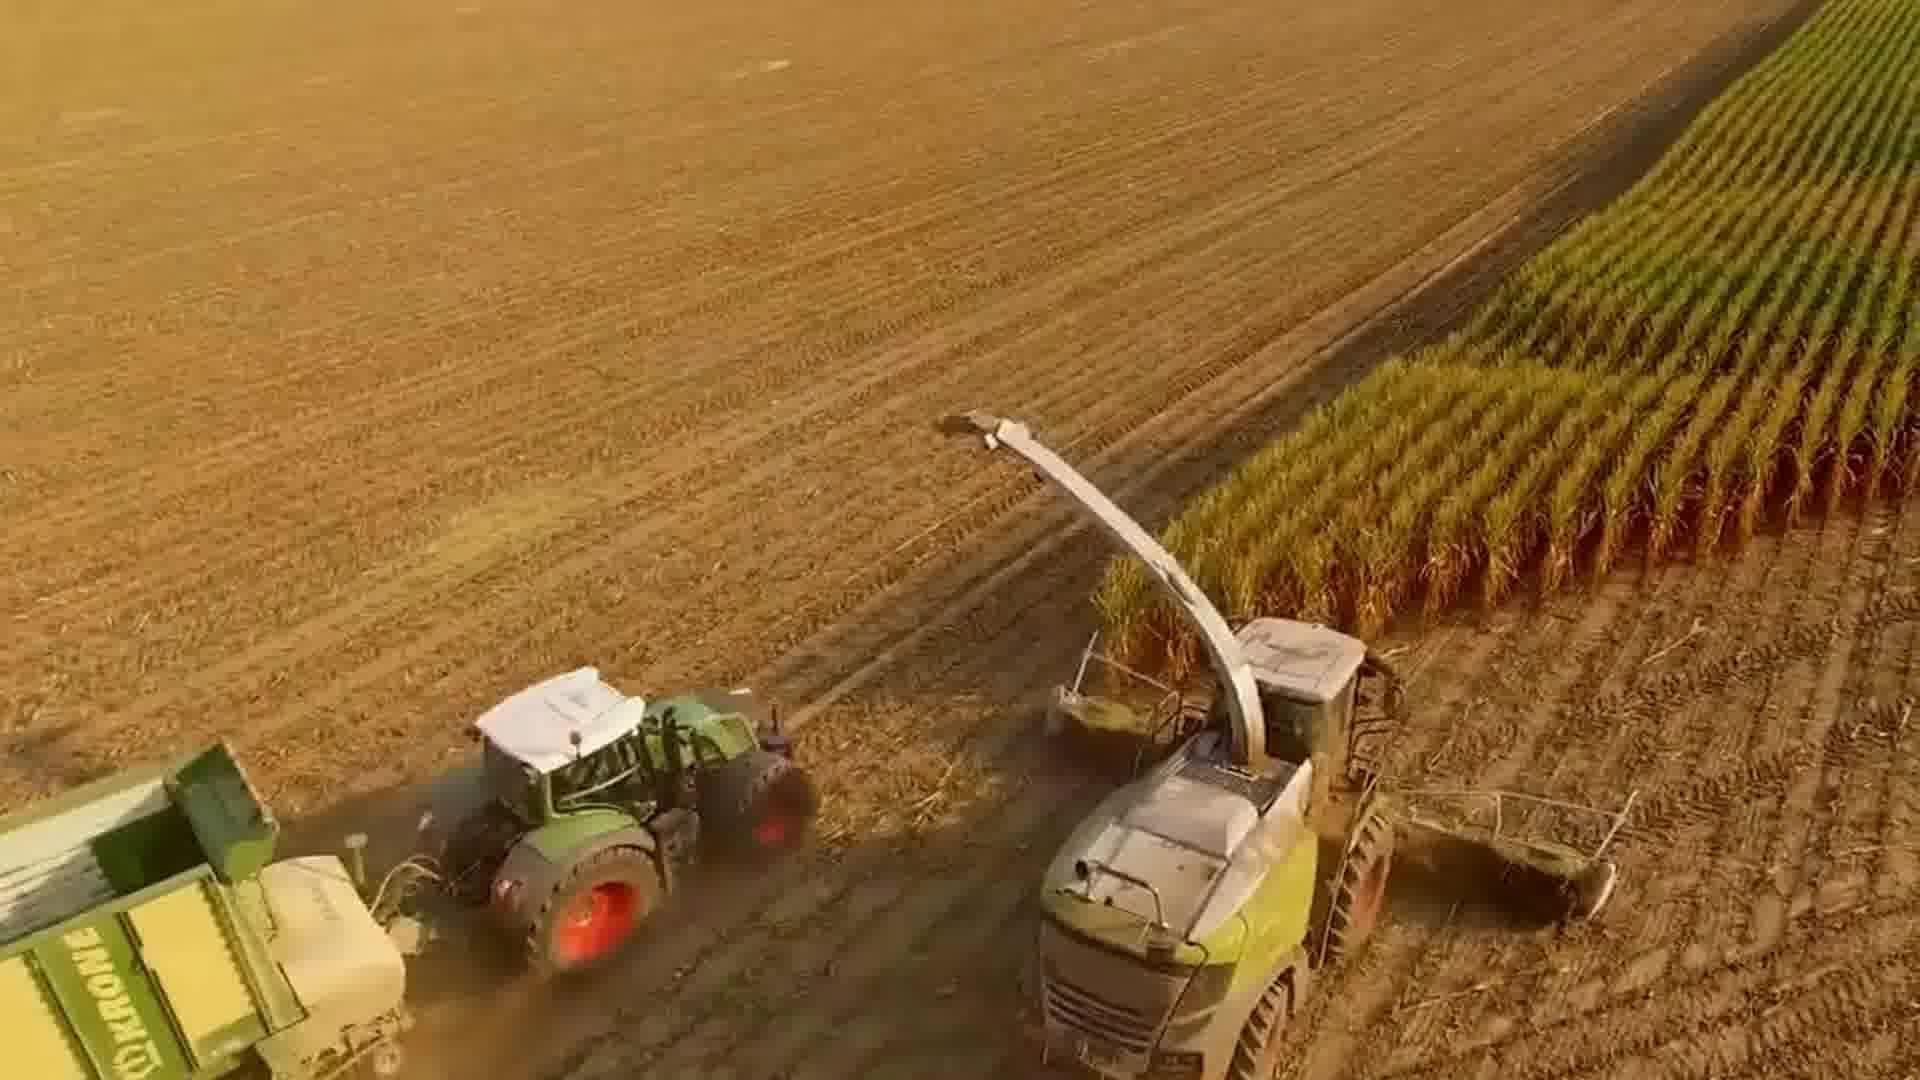combine harvester: (928, 390, 1642, 1080)
tractor: (423, 658, 822, 998)
trailer: (0, 728, 425, 1080)
